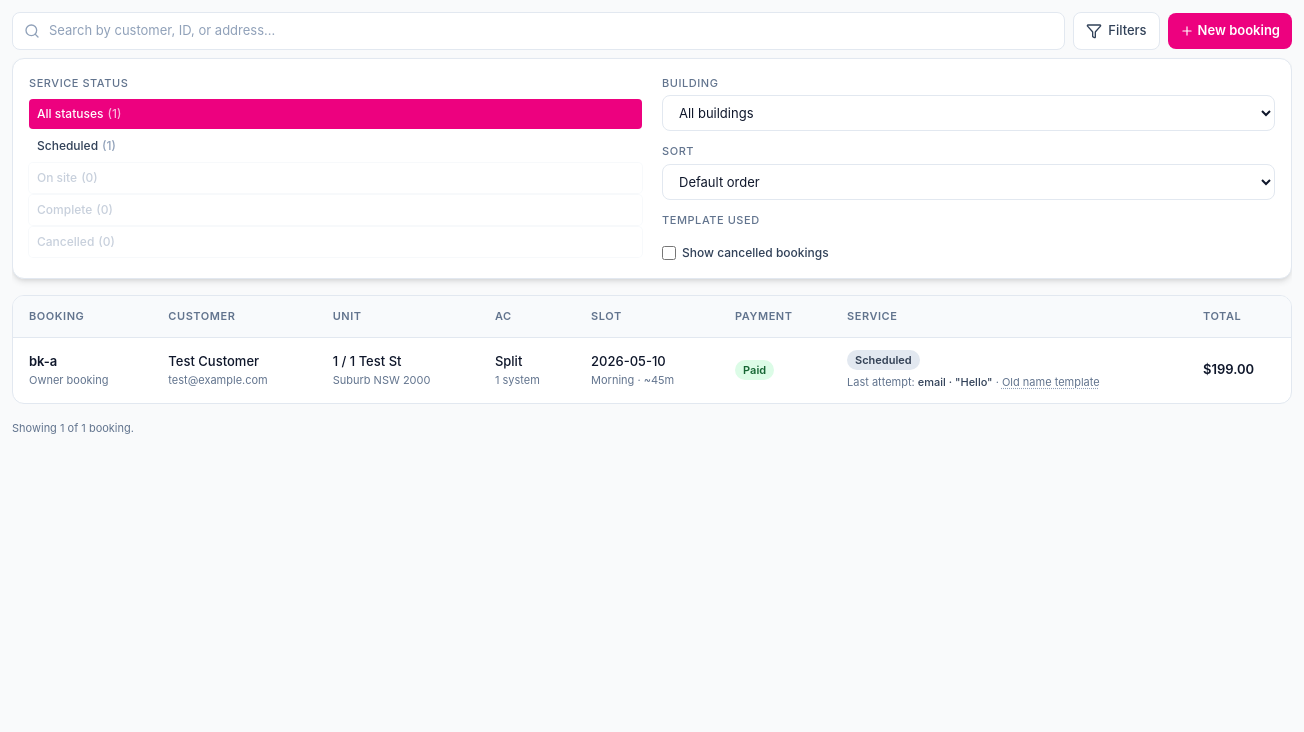
it: BookingsView — template filter pivot › stays quiet (no false-positive hint) when the catalogs aren't threaded in
The width and height of the screenshot is (1304, 732).
Step 1. Click the button with test id "bookings-row-last-attempt-template" → x=1051, y=382, box [1002, 374, 1100, 390]
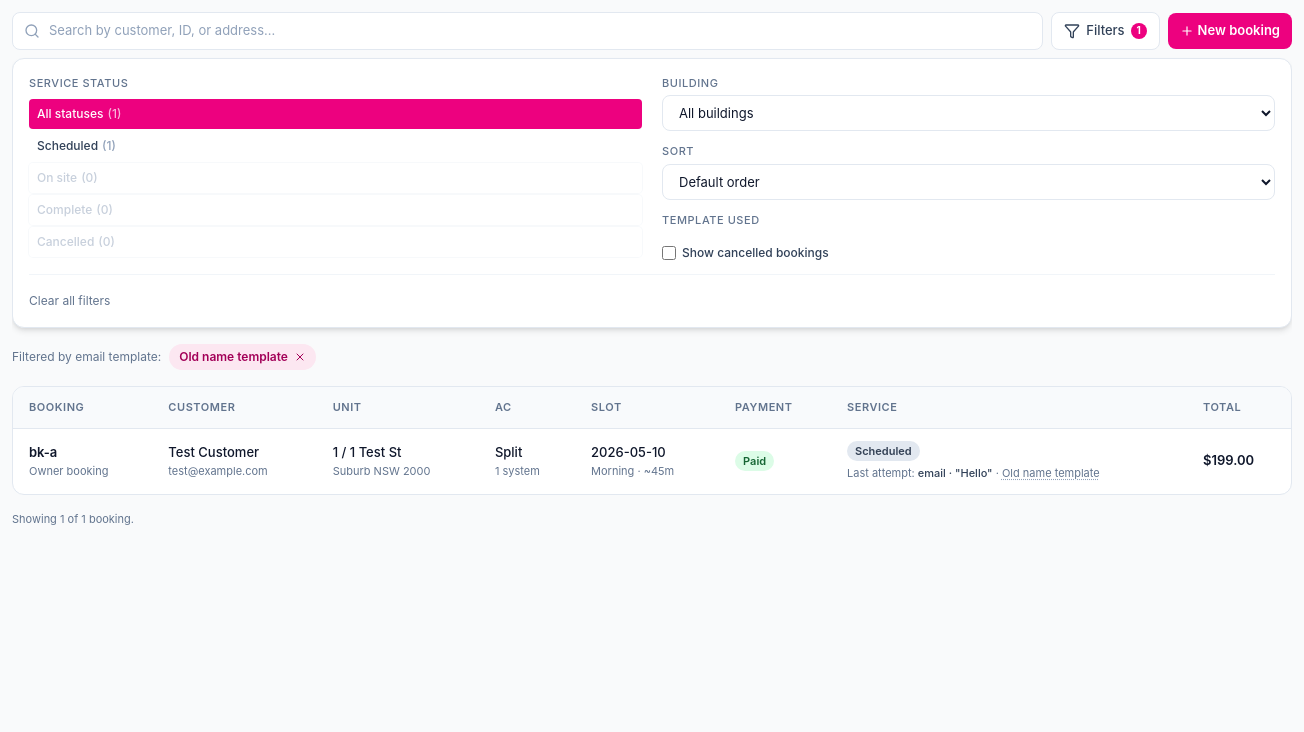
Now the element with test id "bookings-template-filter-chip" is shown, box [12, 344, 316, 370]
